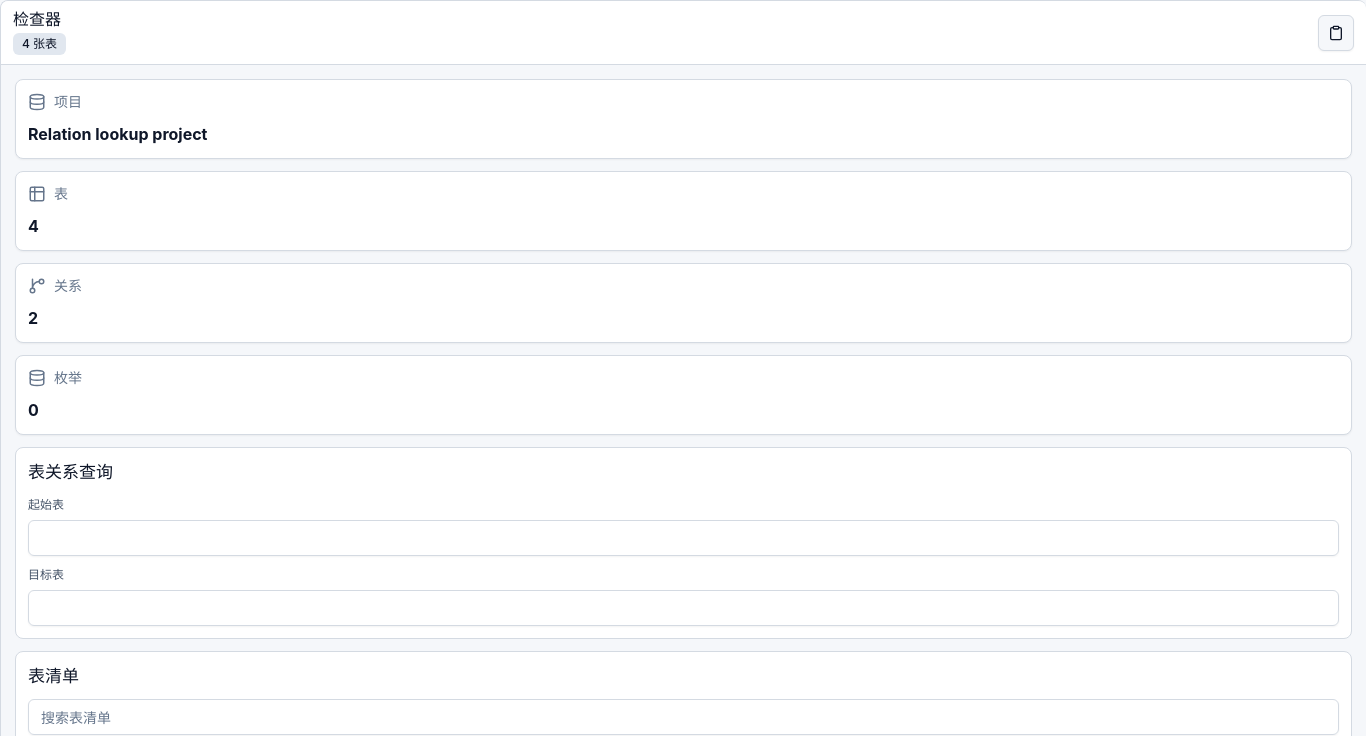
Test: InspectorPanel › suggests tables by name or table note in the relation lookup inputs
The image size is (1366, 736).
Type "用户" into the dropdown labelled "起始表". click: (684, 538)
box: [28,520,1339,556]
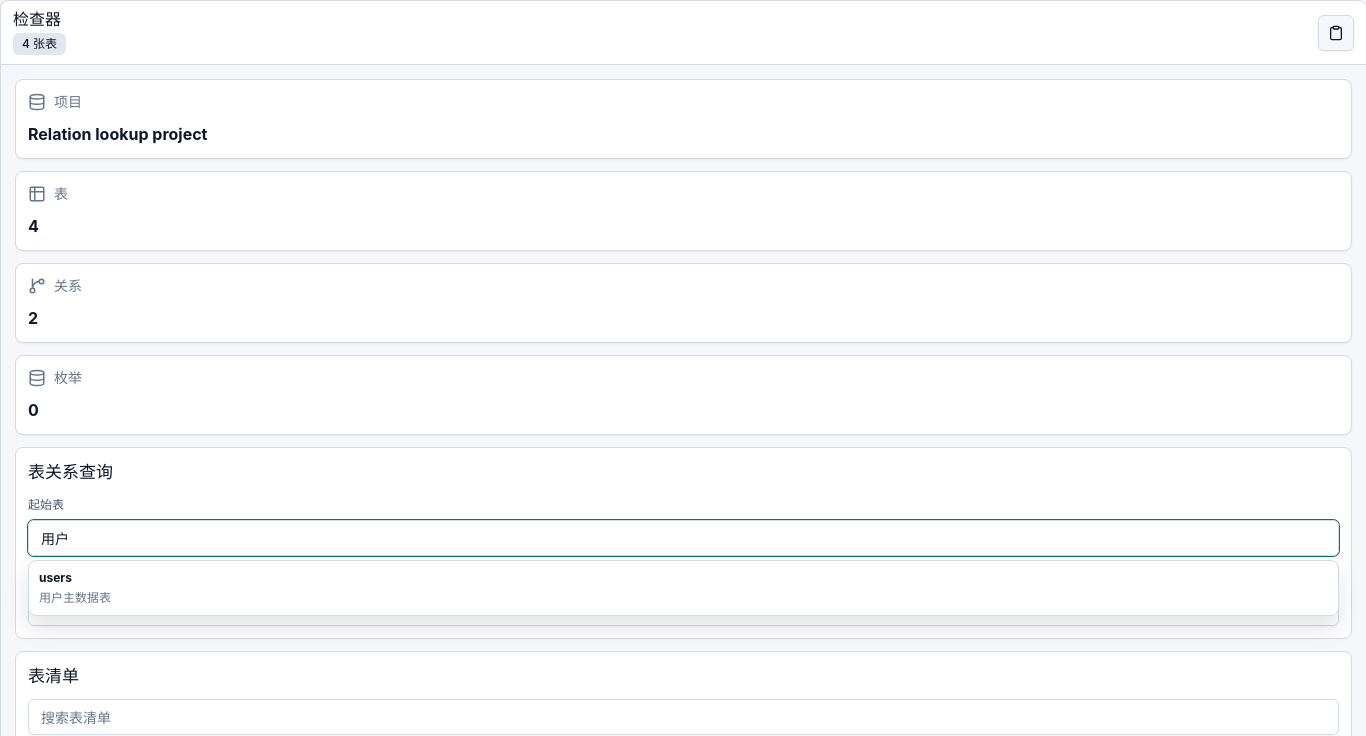
Expected: the option "users 用户主数据表" is shown, [29,560,1338,614]
